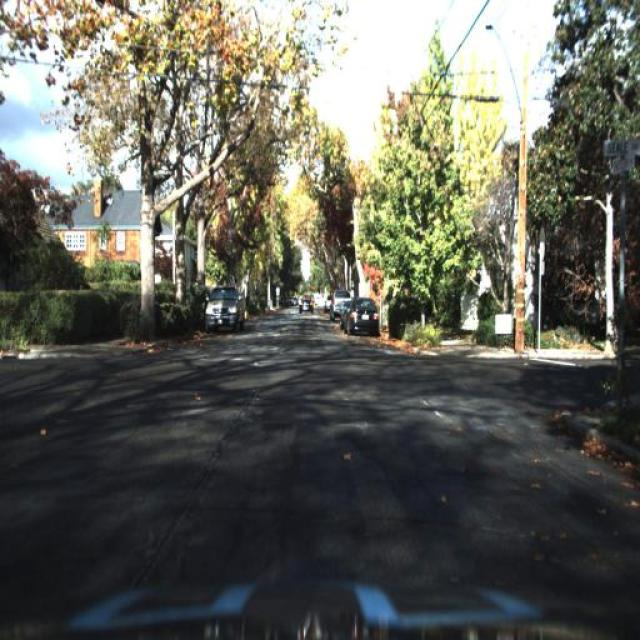car: (198, 282, 251, 339), (342, 296, 382, 340), (328, 290, 348, 324), (297, 290, 318, 316)
